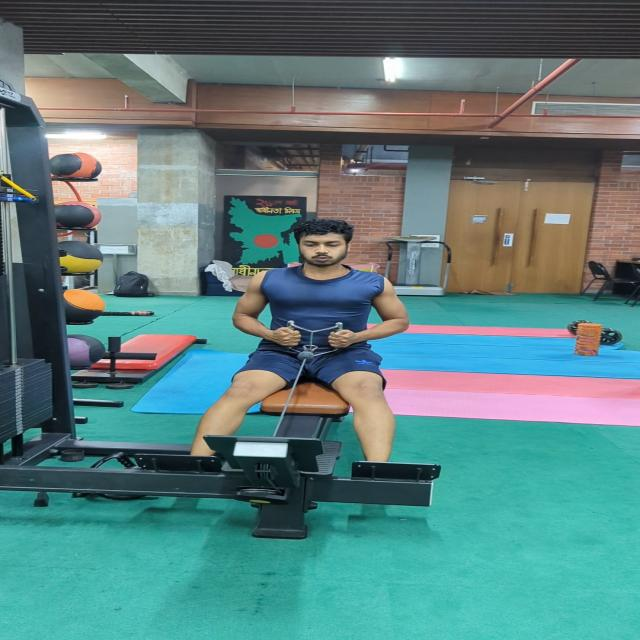Normal_RowingMachineExercise: (186, 216, 414, 464)
